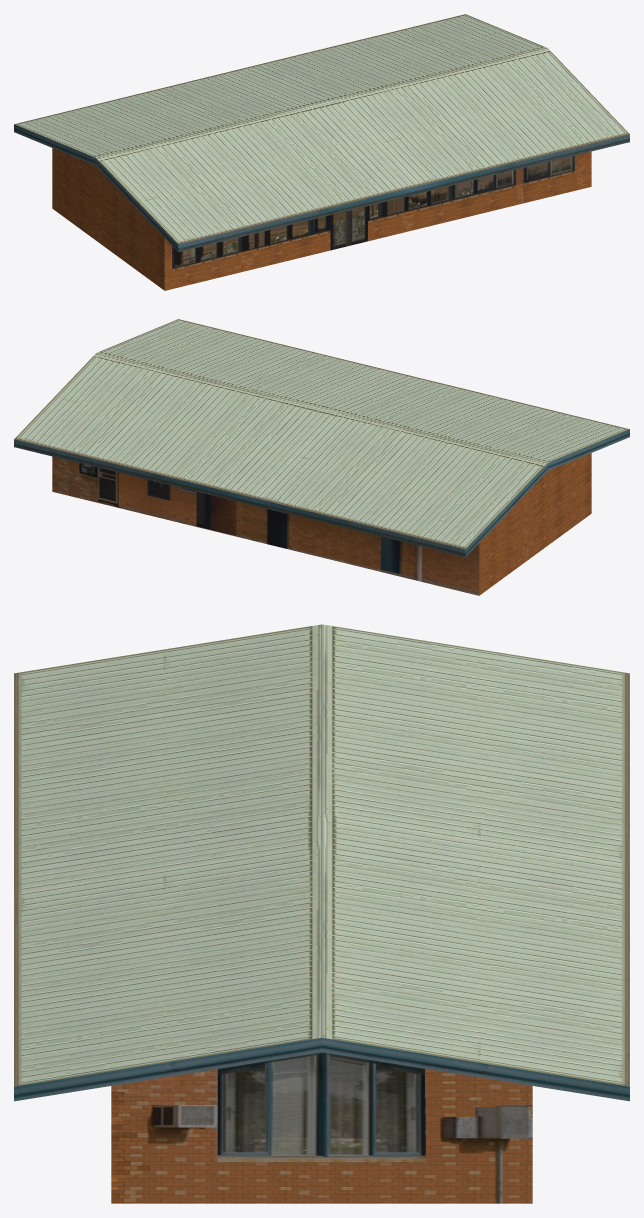
The model's file is terminal-small-03-18x11-cbj_LOD00.gltf.
The picture shows the model from 3 angles, top to bottom: view 1: azimuth 30°, elevation 25°; view 2: azimuth 150°, elevation 25°; view 3: azimuth 270°, elevation 25°; orthographic projection. The views are drawn at different scales.
Visible parts, largest first — view 1: Sketchup; view 2: Sketchup; view 3: Sketchup.
Part boxes in pixels (x1,y1,x2,y2): Sketchup: [14, 14, 629, 290]; Sketchup: [14, 319, 629, 595]; Sketchup: [14, 624, 629, 1203].
Bounding box in the file's own units: 18.1 × 3.62 × 11.4.
